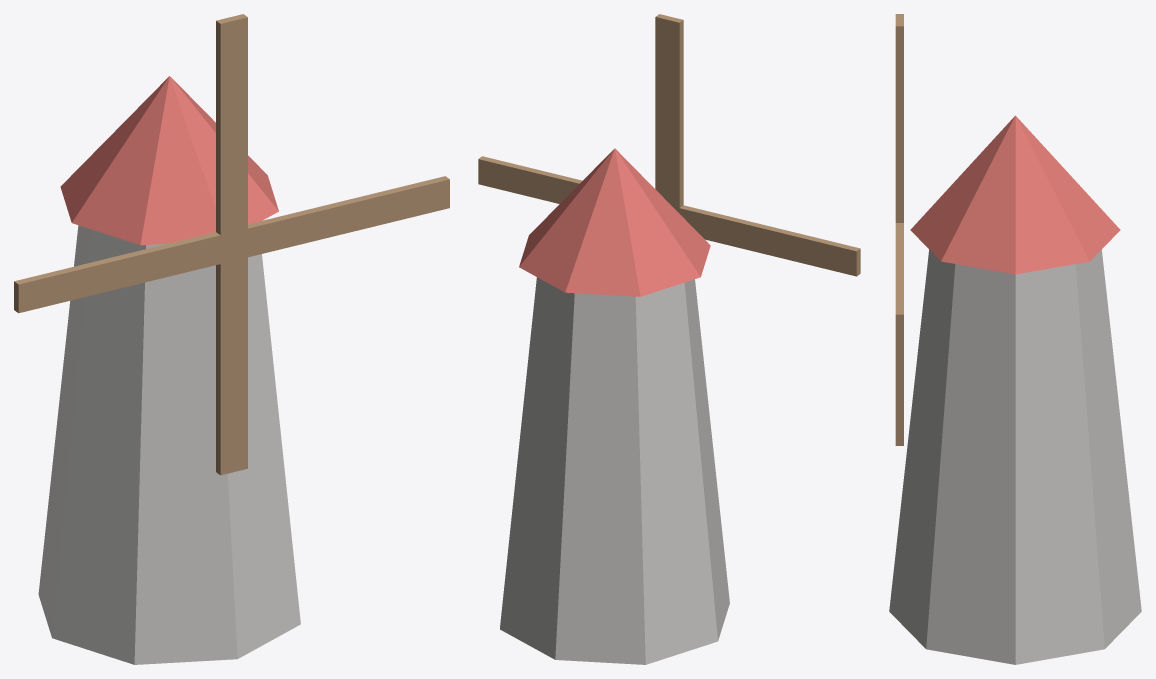
The model's file is molino.glb.
3 views of the same model, side by side, from view 1: azimuth 30°, elevation 25°; view 2: azimuth 150°, elevation 25°; view 3: azimuth 270°, elevation 25° (orthographic). The views are drawn at different scales.
Visible parts, largest first — view 1: torre, aspas; view 2: torre, aspas; view 3: torre, aspas.
Boxes of the visible parts, x1=… form: torre: x1=38, y1=76, x2=300, y2=664; aspas: x1=14, y1=14, x2=449, y2=475; torre: x1=500, y1=148, x2=729, y2=664; aspas: x1=478, y1=14, x2=860, y2=276; torre: x1=889, y1=115, x2=1141, y2=664; aspas: x1=895, y1=14, x2=903, y2=445.
Size of the model in its own units: 2.2 by 3.1 by 1.2.
